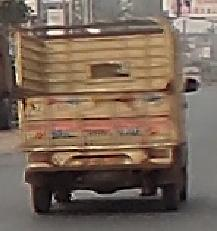Truck: (10, 13, 199, 214)
